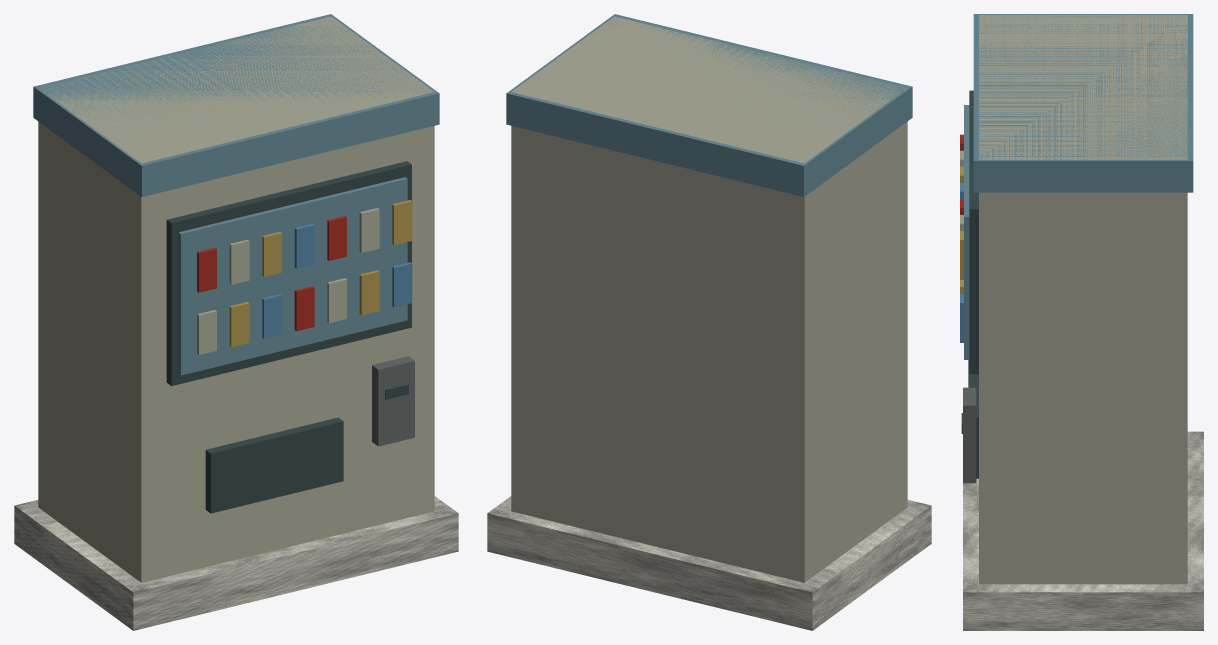
File: valley-vending-machine.obj
3 views of the same model, side by side, from view 1: azimuth 30°, elevation 25°; view 2: azimuth 150°, elevation 25°; view 3: azimuth 270°, elevation 25° (orthographic).
Size of the model in its own units: 1.42 by 1.91 by 0.911.
Materials: 8 (1 with a texture image).
